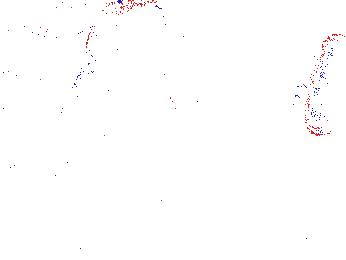moon jellyfish: (74, 54, 178, 120), (84, 2, 168, 77), (302, 33, 346, 136), (1, 19, 65, 77)
